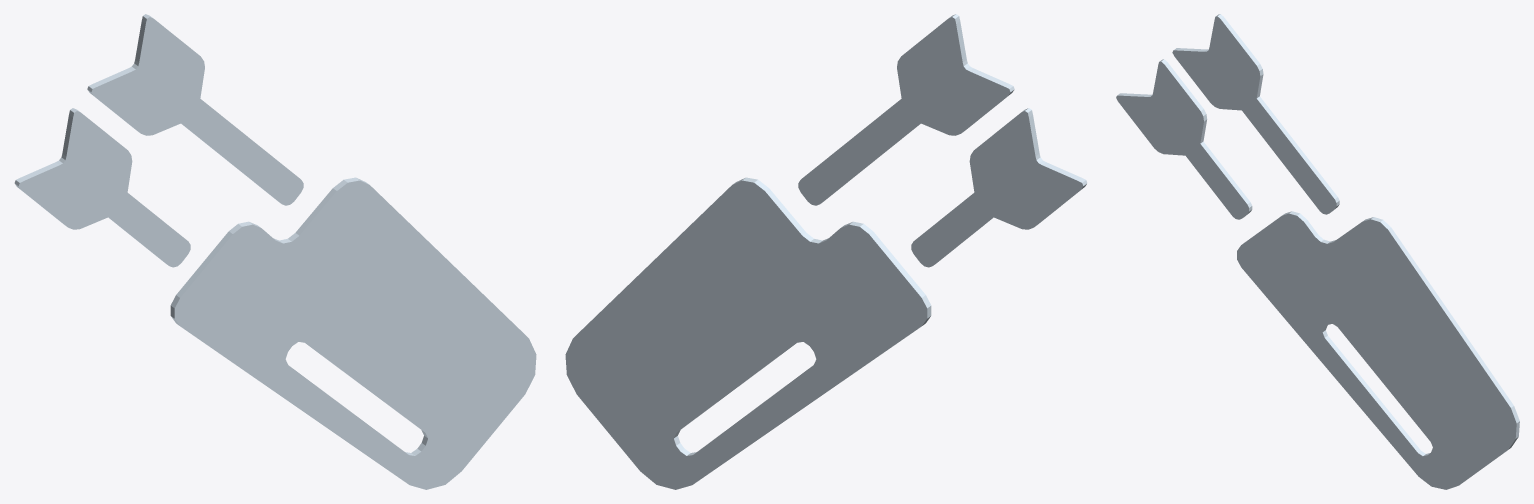
File: Arrow_Pack_3D_Icon.fbx
3 renders of one model, left to right at view 1: azimuth 30°, elevation 25°; view 2: azimuth 150°, elevation 25°; view 3: azimuth 330°, elevation 25°, orthographic. The views are drawn at different scales.
Parts seen in each view (by area): view 1: Arrow_Pack_3D_Icon; view 2: Arrow_Pack_3D_Icon; view 3: Arrow_Pack_3D_Icon.
Boxes of the visible parts, x1,y1,x2,y2 form: Arrow_Pack_3D_Icon: (14, 14, 536, 489); Arrow_Pack_3D_Icon: (565, 14, 1087, 489); Arrow_Pack_3D_Icon: (1116, 14, 1519, 489).
Size of the model in its own units: 145 by 145 by 2.
